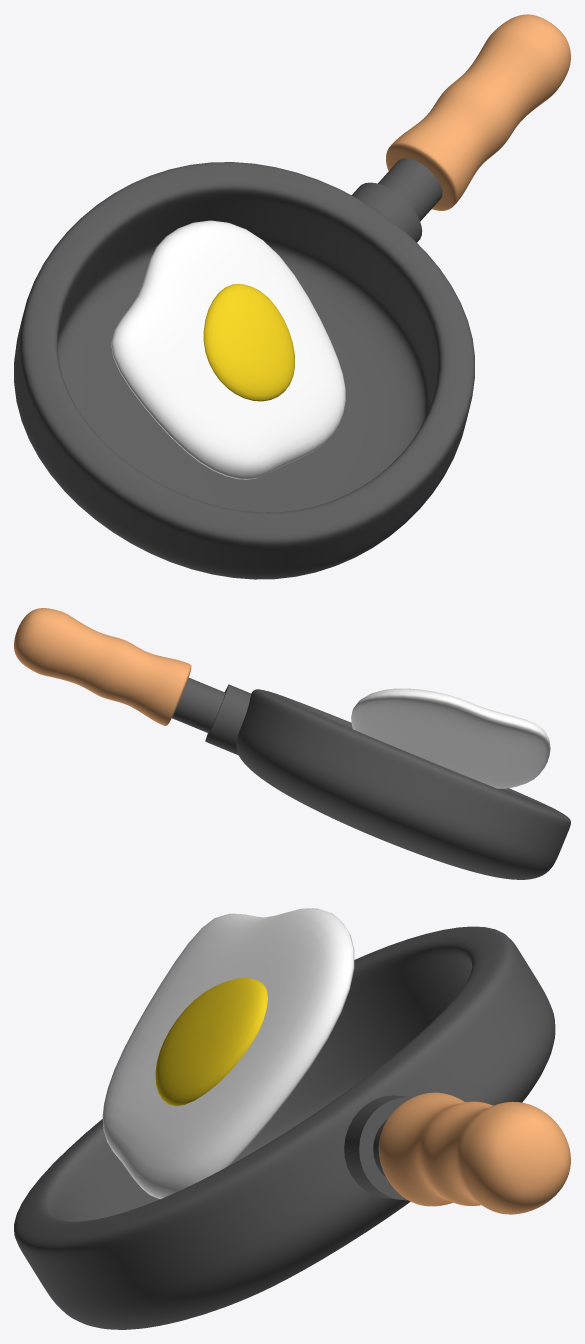
Rendered from pan.glb.
The picture shows the model from 3 angles, top to bottom: view 1: azimuth 30°, elevation 25°; view 2: azimuth 150°, elevation 25°; view 3: azimuth 270°, elevation 25°; orthographic projection. The views are drawn at different scales.
Visible parts, largest first — view 1: Cube_0, Cube.002_5, Cube.001_1, Sphere_4, Cylinder.001_2, Cylinder_3; view 2: Cube_0, Cube.002_5, Cube.001_1, Cylinder.001_2, Cylinder_3; view 3: Cube_0, Cube.002_5, Cube.001_1, Sphere_4, Cylinder_3.
Boxes of the visible parts, box(x1,y1,x2,y2) form: Cube_0: box(14, 162, 474, 579); Cube.002_5: box(111, 220, 345, 479); Cube.001_1: box(386, 14, 570, 210); Sphere_4: box(203, 284, 294, 401); Cylinder.001_2: box(378, 158, 442, 221); Cylinder_3: box(352, 182, 422, 242); Cube_0: box(236, 689, 570, 879); Cube.002_5: box(351, 688, 550, 788); Cube.001_1: box(14, 608, 191, 725); Cylinder.001_2: box(172, 678, 225, 733); Cylinder_3: box(205, 684, 251, 755); Cube_0: box(14, 926, 555, 1329); Cube.002_5: box(102, 908, 354, 1198); Cube.001_1: box(378, 1092, 570, 1214); Sphere_4: box(155, 977, 267, 1106); Cylinder_3: box(344, 1095, 412, 1200).
Bounding box in the file's own units: 2.19 × 1.16 × 1.35.
